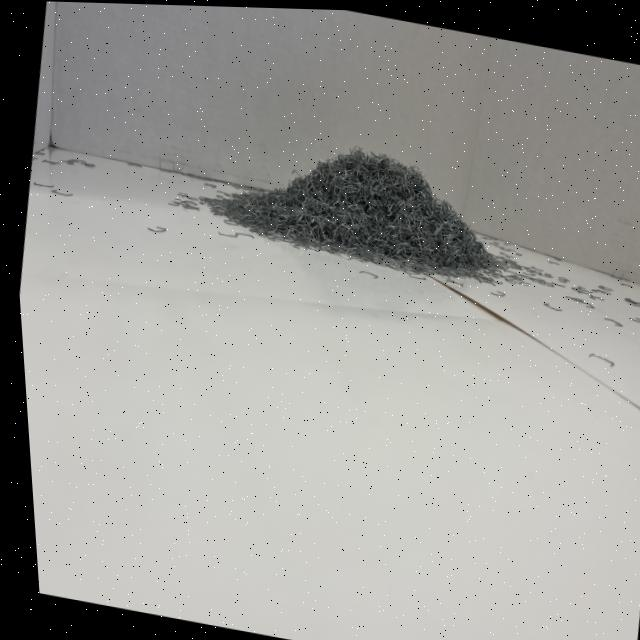staples: (189, 115, 512, 289)
